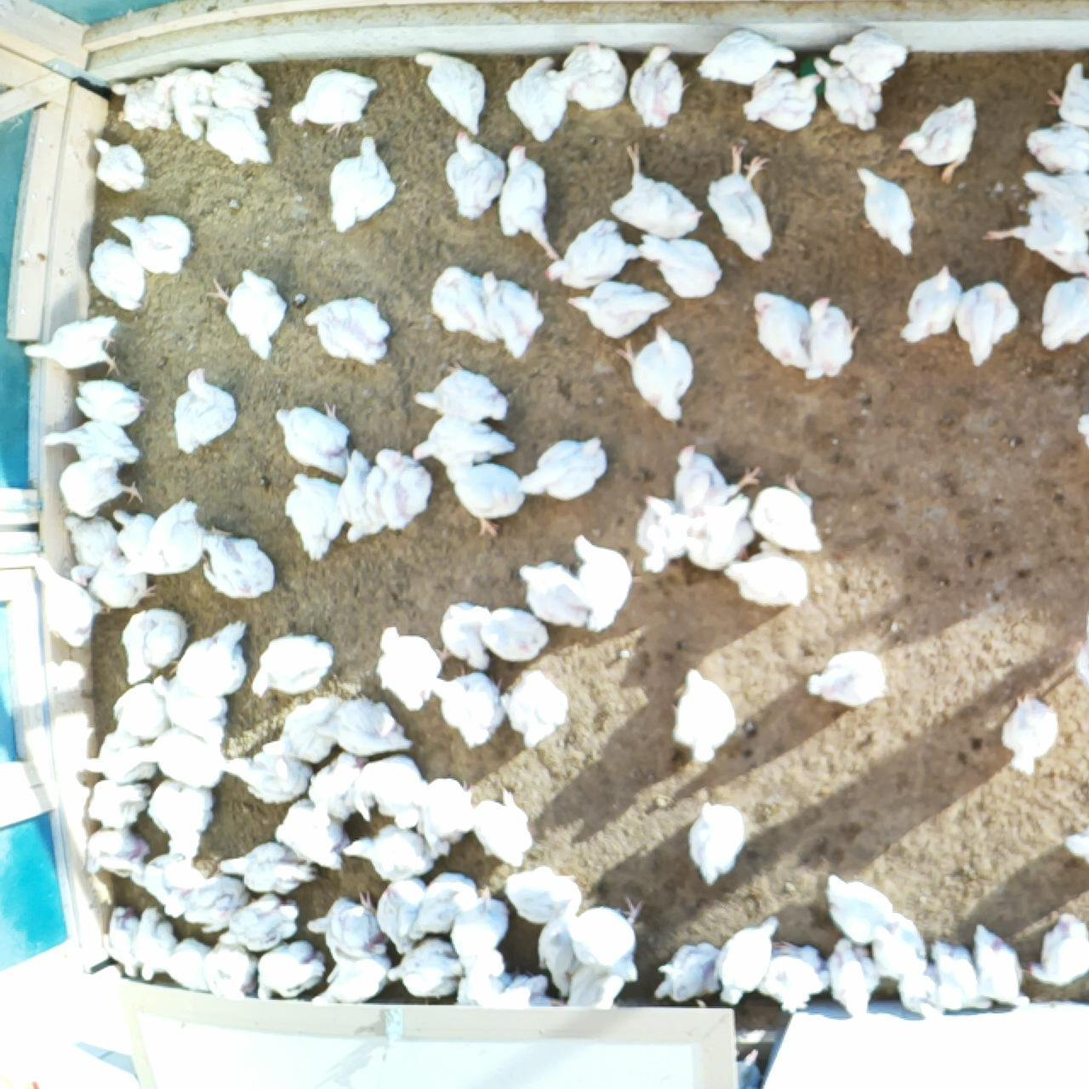chicken: (610, 139, 704, 238), (980, 196, 1089, 277), (205, 261, 289, 366), (125, 496, 231, 577), (706, 143, 776, 261), (28, 551, 111, 647), (495, 143, 559, 264), (618, 325, 698, 421), (542, 215, 646, 288), (566, 532, 640, 633), (272, 399, 359, 483), (562, 896, 645, 984), (336, 816, 445, 883), (22, 312, 123, 384), (55, 450, 151, 525), (302, 291, 394, 369), (442, 456, 528, 539), (898, 97, 981, 183), (694, 24, 800, 91), (670, 668, 743, 765), (325, 134, 396, 233), (409, 414, 517, 479), (374, 625, 453, 712), (713, 912, 784, 1008), (516, 432, 611, 503), (631, 230, 723, 302), (667, 445, 761, 515), (430, 669, 512, 749), (475, 267, 545, 360), (348, 750, 428, 831), (751, 471, 826, 557), (793, 292, 862, 385), (440, 127, 509, 220), (723, 537, 810, 610), (168, 367, 237, 459), (852, 166, 921, 257), (170, 616, 250, 694), (413, 51, 491, 131), (313, 693, 410, 757), (564, 280, 671, 338), (281, 469, 347, 563), (332, 447, 393, 548), (495, 671, 571, 752), (306, 888, 389, 962), (186, 100, 275, 169), (741, 61, 825, 134), (626, 40, 694, 130), (682, 796, 749, 887), (273, 798, 351, 876), (506, 51, 572, 143), (287, 68, 380, 133), (954, 277, 1021, 367), (120, 601, 190, 687), (411, 361, 508, 423), (200, 527, 281, 601), (812, 54, 885, 135), (364, 448, 434, 532), (43, 415, 140, 475), (146, 777, 216, 860), (470, 780, 535, 868), (261, 695, 345, 763), (406, 869, 483, 943), (298, 750, 371, 828), (550, 41, 629, 113), (826, 25, 912, 91), (251, 632, 334, 700), (211, 892, 305, 952), (967, 922, 1033, 1007), (151, 672, 231, 742), (427, 266, 498, 344), (223, 745, 312, 807), (216, 840, 316, 895), (923, 938, 994, 1015), (897, 262, 962, 346), (311, 944, 392, 1010), (999, 688, 1059, 777), (757, 939, 831, 1011), (520, 557, 590, 632), (651, 938, 728, 1006), (111, 213, 191, 278), (62, 509, 126, 590), (748, 290, 812, 371), (686, 495, 753, 572), (630, 493, 692, 576), (135, 849, 206, 921), (824, 871, 895, 943), (416, 774, 476, 859), (252, 935, 327, 1002), (503, 867, 582, 929), (448, 884, 513, 959), (806, 651, 891, 708), (189, 59, 273, 115), (151, 729, 228, 790), (824, 937, 881, 1019), (389, 937, 465, 998), (159, 64, 220, 139), (72, 376, 152, 433), (183, 871, 253, 936), (89, 237, 149, 312), (108, 675, 170, 747), (76, 730, 158, 784), (1030, 912, 1089, 987), (867, 909, 928, 981), (534, 907, 583, 996), (90, 543, 155, 609), (200, 925, 255, 1002), (1035, 277, 1089, 355), (453, 941, 513, 1011), (1017, 169, 1089, 226), (372, 875, 425, 952), (433, 603, 494, 669), (479, 605, 549, 662), (133, 905, 182, 983), (894, 955, 948, 1023), (564, 959, 628, 1015), (87, 775, 153, 829), (84, 822, 147, 878), (86, 136, 145, 195), (110, 78, 172, 132), (162, 934, 215, 997), (101, 903, 144, 979), (1025, 123, 1089, 174), (1043, 60, 1089, 128), (112, 509, 164, 563), (489, 970, 551, 1012), (731, 1046, 767, 1089)
